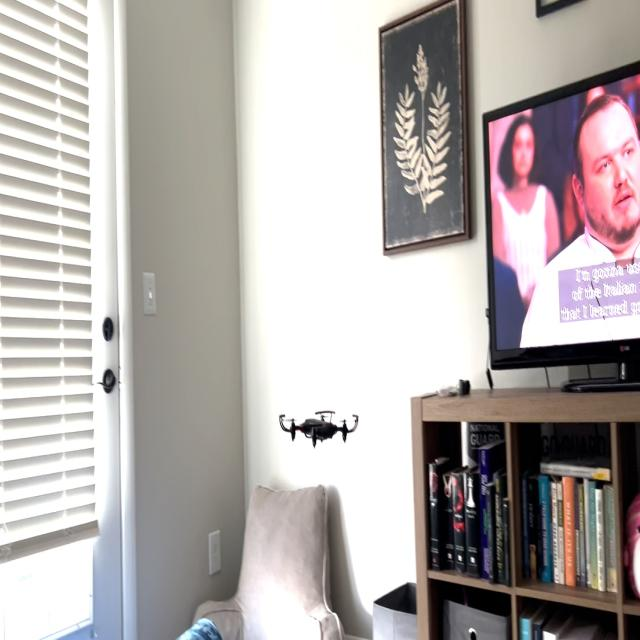drone: (266, 393, 366, 460)
